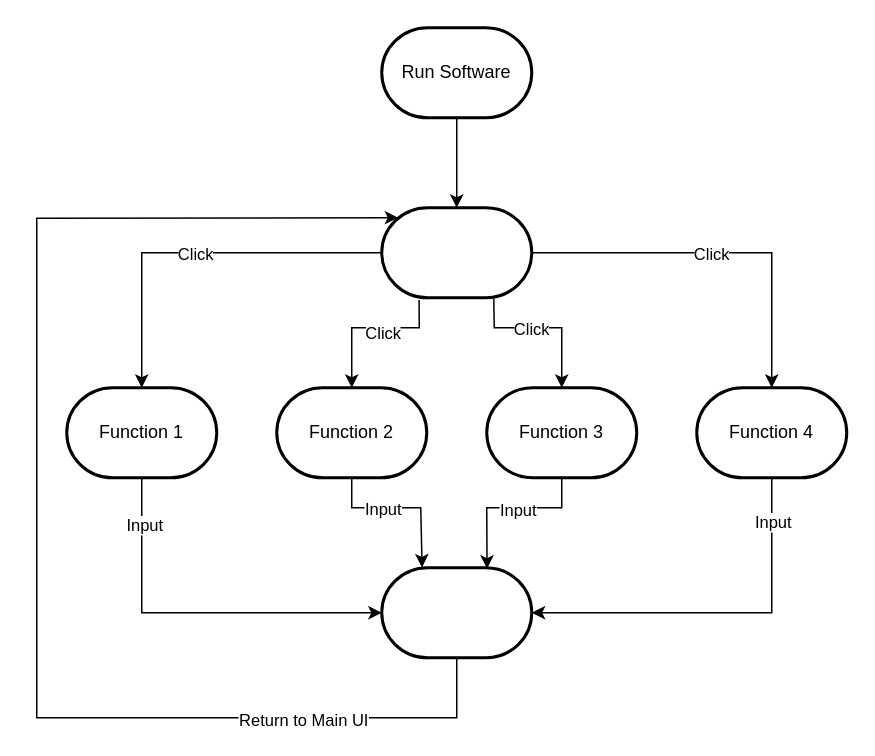
This 875x756 diagram has some shape labels left out. Here are the shapes that lost their labels. From the top down, the centre of each, then its label:
At point 456,252: "Main UI".
At point 456,612: "Data Display".
